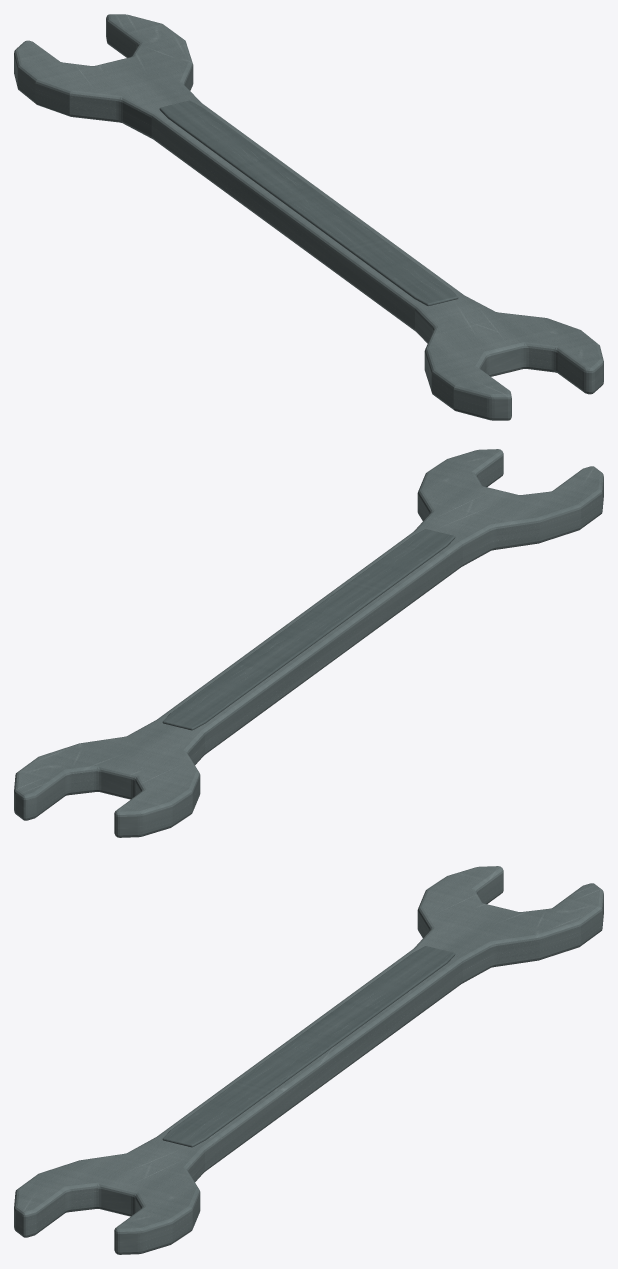
File: Pickup_Wrench.fbx
3 views of the same model, one above another, from view 1: azimuth 30°, elevation 25°; view 2: azimuth 150°, elevation 25°; view 3: azimuth 330°, elevation 25° (orthographic). The views are drawn at different scales.
Visible parts, largest first — view 1: Pickup_Wrench; view 2: Pickup_Wrench; view 3: Pickup_Wrench.
Part boxes in pixels (x1=…): Pickup_Wrench: x1=14, y1=14, x2=603, y2=420; Pickup_Wrench: x1=14, y1=449, x2=603, y2=837; Pickup_Wrench: x1=14, y1=866, x2=603, y2=1254.
Size of the model in its own units: 3.27 by 0.6169 by 18.
